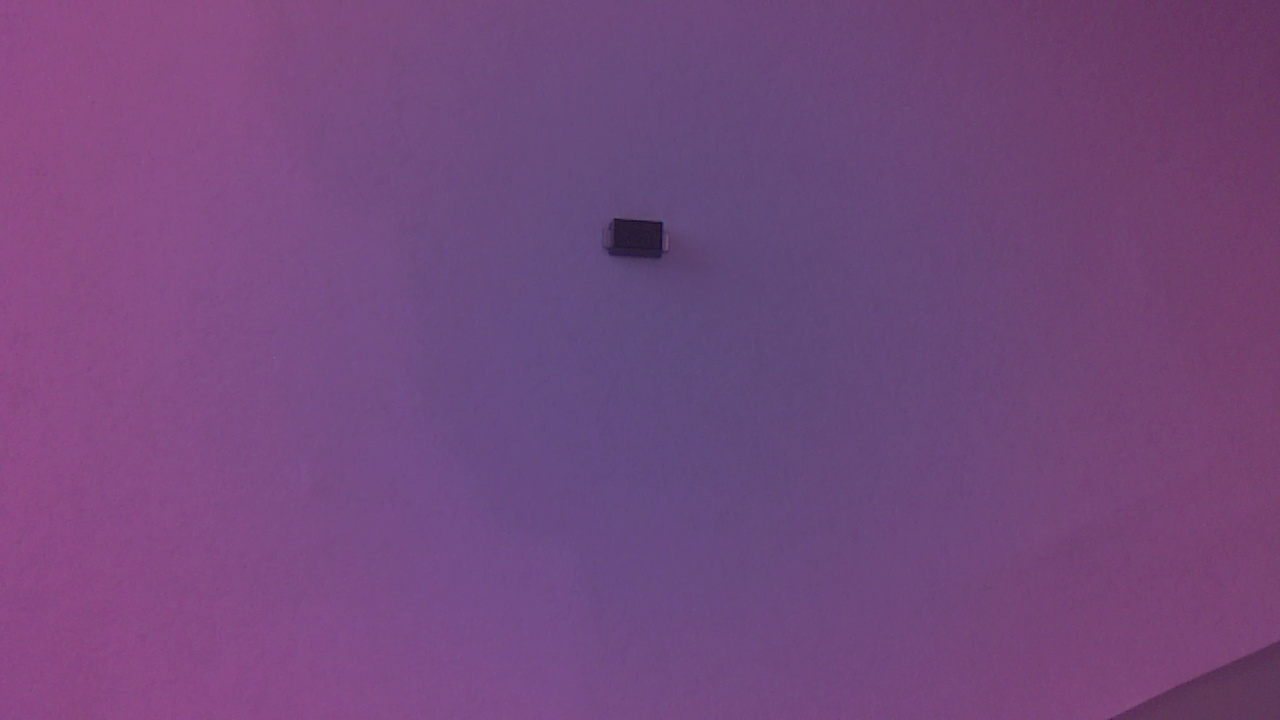Diode: (601, 218, 690, 271)
